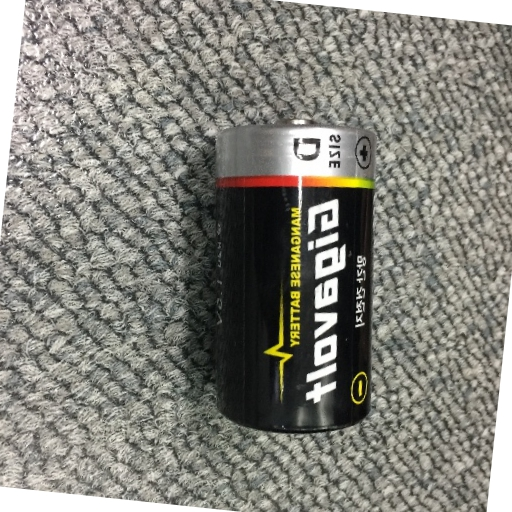Battery_0: (205, 101, 388, 442)
